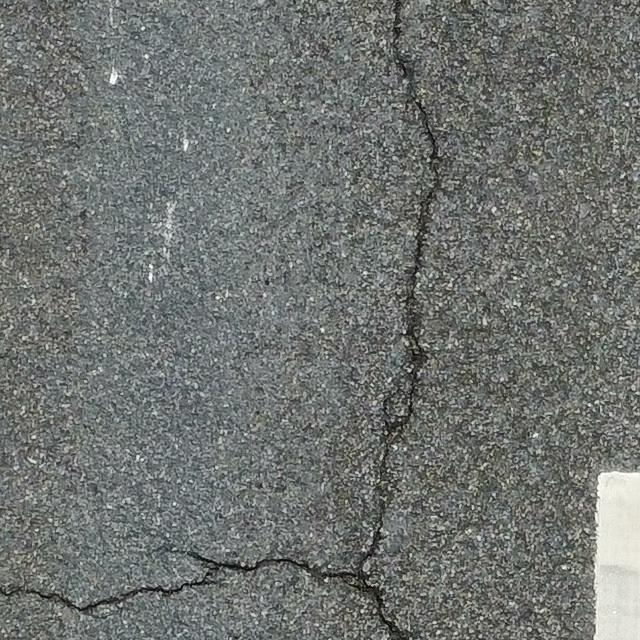LongitudinalCrack: (358, 1, 440, 564)
TransverseCrack: (1, 552, 406, 640)
